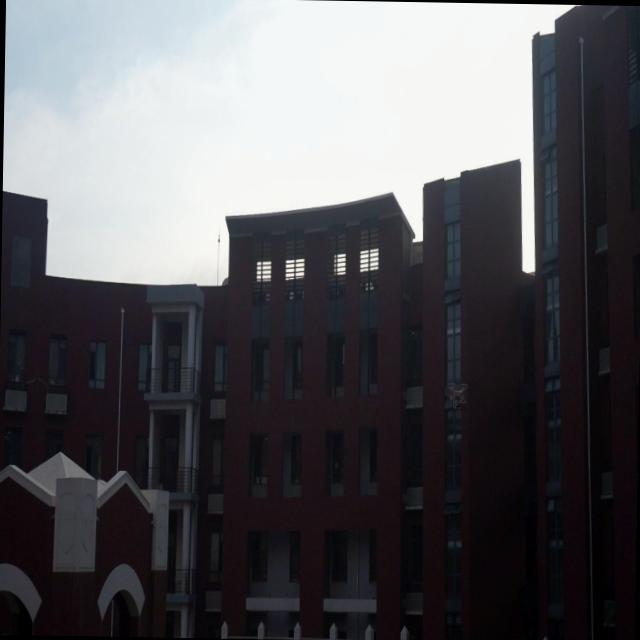drone: (444, 376, 468, 412)
